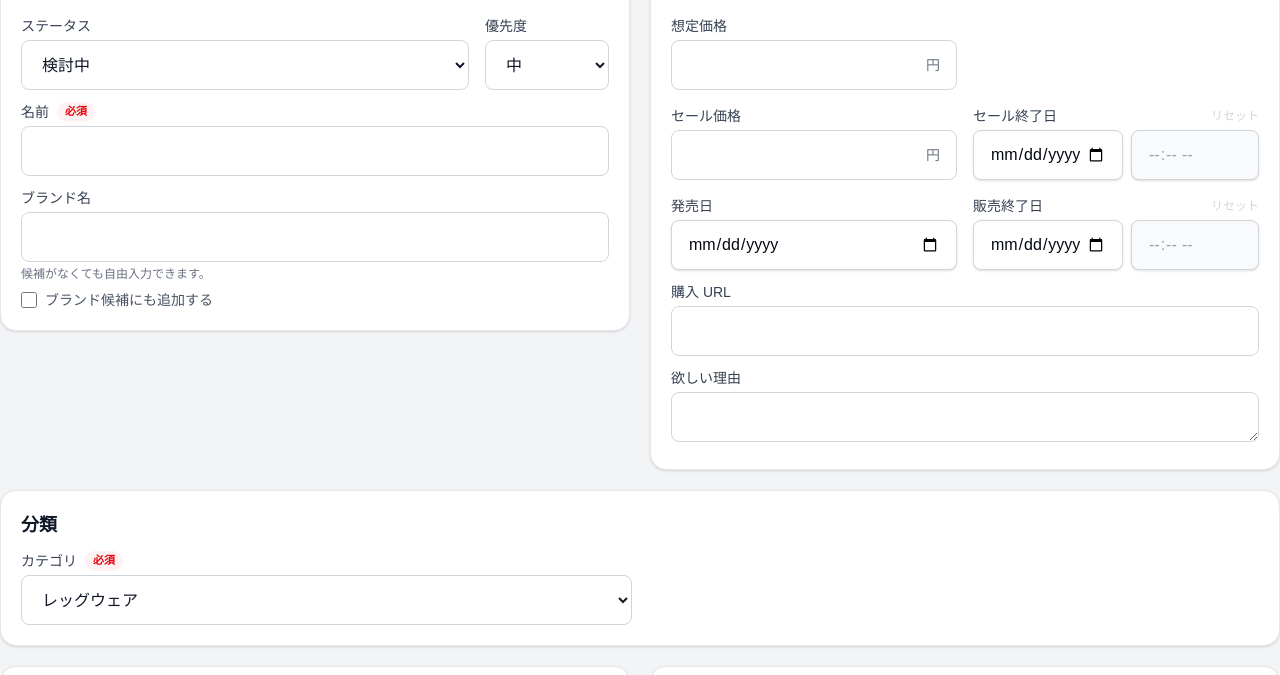
Test: 購入検討フォーム › legwear socks では spec UI を表示する
Select "レッグウェア" in the dropdown with id "category_group_id" at (326, 600), box [21, 575, 632, 625]
Select "レッグウェア" in the dropdown with id "category_group_id" at (326, 600), box [21, 575, 632, 625]
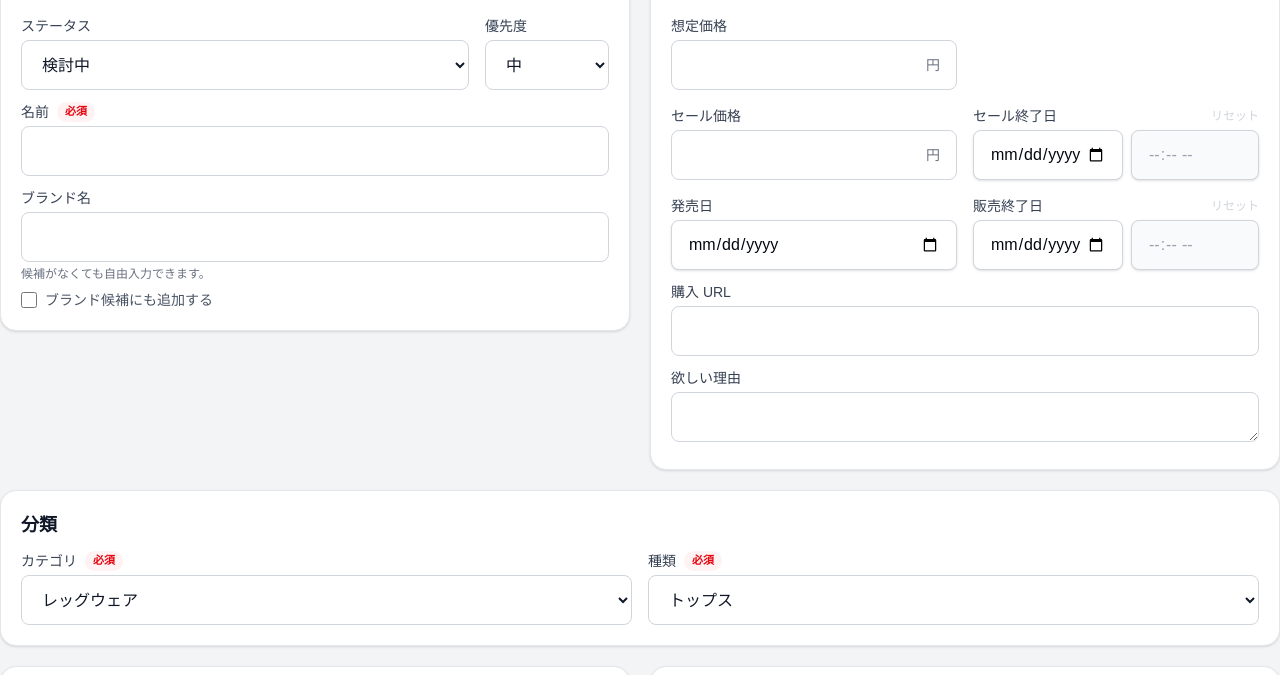
Select "トップス" in the dropdown with id "category_id" at (954, 600), box [648, 575, 1259, 625]
Select "トップス" in the dropdown with id "category_id" at (954, 600), box [648, 575, 1259, 625]
(page scrolled)
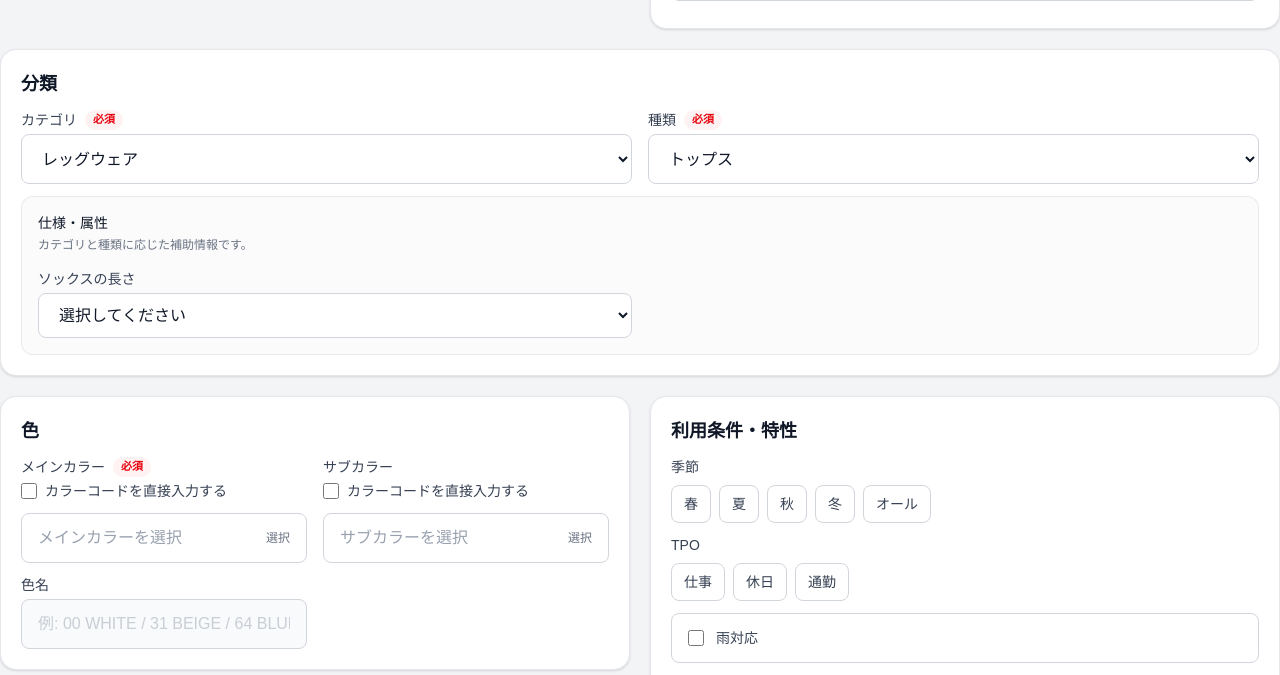
Now the dropdown with id "spec-legwear-coverage-type" is shown, box [38, 293, 632, 338]
